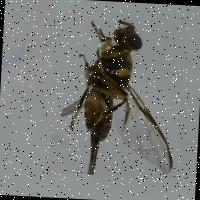Oriental-fruit-fly: (48, 0, 187, 178)
